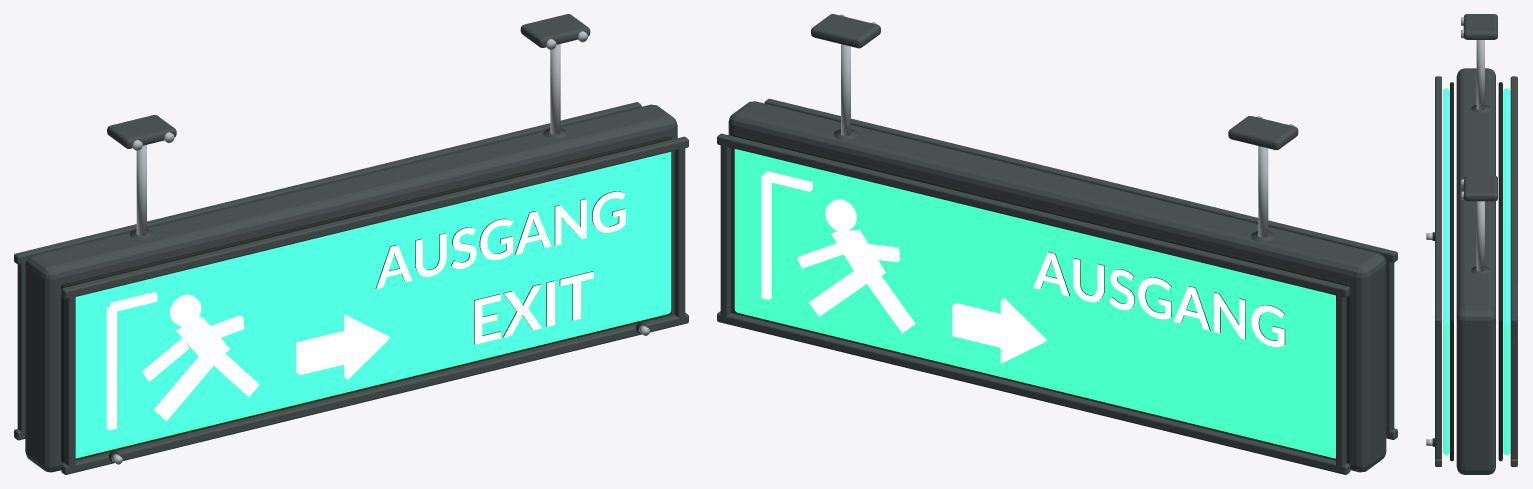
File: EXIT_AUSGANG_Illuminated.glb
The picture shows the model from 3 angles, left to right: view 1: azimuth 30°, elevation 25°; view 2: azimuth 150°, elevation 25°; view 3: azimuth 270°, elevation 25°; orthographic projection. The views are drawn at different scales.
Parts seen in each view (by area): view 1: EXIT | green acrylic front diffuser, EXIT | aluminium rectangular lightbox housing, EXIT | top aluminium bezel -1, EXIT | lower aluminium bezel -1, EXIT | bright white German title, EXIT | front weatherproof gasket, EXIT | top aluminium bezel 1, EXIT | directional right arrow, EXIT | secondary English title, EXIT | short edge bezel -1 -0.75, EXIT | short edge bezel -1 0.75, EXIT | short edge bezel 1 -0.75 (+10 smaller); view 2: EXIT | green acrylic back diffuser, EXIT | aluminium rectangular lightbox housing, EXIT | top aluminium bezel 1, EXIT | lower aluminium bezel 1, EXIT | bright white German title | reverse face, EXIT | rear weatherproof gasket, EXIT | top aluminium bezel -1, EXIT | directional right arrow | reverse face, EXIT | short edge bezel 1 0.75, EXIT | short edge bezel 1 -0.75, EXIT | flush ceiling anchor plate 2, EXIT | flush ceiling anchor plate 1 (+8 smaller); view 3: EXIT | aluminium rectangular lightbox housing, EXIT | green acrylic back diffuser, EXIT | green acrylic front diffuser, EXIT | top aluminium bezel 1, EXIT | rear weatherproof gasket, EXIT | top aluminium bezel -1, EXIT | front weatherproof gasket, EXIT | short edge bezel 1 0.75, EXIT | short edge bezel -1 0.75, EXIT | flush ceiling anchor plate 2, EXIT | flush ceiling anchor plate 1, EXIT | ceiling drop rod 2 (+1 smaller).
Part boxes in pixels (left/top/right/bottom): EXIT | green acrylic front diffuser: left=75, top=152, right=671, bottom=458; EXIT | aluminium rectangular lightbox housing: left=25, top=104, right=677, bottom=472; EXIT | top aluminium bezel -1: left=61, top=136, right=688, bottom=299; EXIT | lower aluminium bezel -1: left=61, top=313, right=688, bottom=474; EXIT | bright white German title: left=375, top=191, right=625, bottom=289; EXIT | front weatherproof gasket: left=61, top=136, right=671, bottom=462; EXIT | top aluminium bezel 1: left=14, top=102, right=641, bottom=264; EXIT | directional right arrow: left=296, top=314, right=389, bottom=379; EXIT | secondary English title: left=474, top=271, right=593, bottom=344; EXIT | short edge bezel -1 -0.75: left=64, top=294, right=75, bottom=469; EXIT | short edge bezel -1 0.75: left=674, top=146, right=685, bottom=319; EXIT | short edge bezel 1 -0.75: left=17, top=259, right=26, bottom=432; EXIT | green acrylic back diffuser: left=734, top=149, right=1335, bottom=458; EXIT | aluminium rectangular lightbox housing: left=728, top=101, right=1386, bottom=472; EXIT | top aluminium bezel 1: left=717, top=133, right=1350, bottom=297; EXIT | lower aluminium bezel 1: left=717, top=311, right=1350, bottom=474; EXIT | bright white German title | reverse face: left=1033, top=251, right=1285, bottom=346; EXIT | rear weatherproof gasket: left=734, top=133, right=1350, bottom=462; EXIT | top aluminium bezel -1: left=764, top=98, right=1397, bottom=262; EXIT | directional right arrow | reverse face: left=952, top=298, right=1046, bottom=363; EXIT | short edge bezel 1 0.75: left=720, top=142, right=731, bottom=319; EXIT | short edge bezel 1 -0.75: left=1336, top=292, right=1346, bottom=467; EXIT | flush ceiling anchor plate 2: left=811, top=14, right=880, bottom=48; EXIT | flush ceiling anchor plate 1: left=1228, top=116, right=1298, bottom=150; EXIT | aluminium rectangular lightbox housing: left=1456, top=68, right=1495, bottom=474; EXIT | green acrylic back diffuser: left=1503, top=88, right=1510, bottom=454; EXIT | green acrylic front diffuser: left=1443, top=88, right=1449, bottom=454; EXIT | top aluminium bezel 1: left=1510, top=76, right=1517, bottom=326; EXIT | rear weatherproof gasket: left=1498, top=82, right=1502, bottom=461; EXIT | top aluminium bezel -1: left=1435, top=76, right=1441, bottom=326; EXIT | front weatherproof gasket: left=1450, top=82, right=1453, bottom=461; EXIT | short edge bezel 1 0.75: left=1510, top=325, right=1517, bottom=459; EXIT | short edge bezel -1 0.75: left=1435, top=325, right=1441, bottom=459; EXIT | flush ceiling anchor plate 2: left=1463, top=175, right=1497, bottom=201; EXIT | flush ceiling anchor plate 1: left=1463, top=14, right=1497, bottom=39; EXIT | ceiling drop rod 2: left=1476, top=201, right=1484, bottom=271.
Size of the model in its own units: 1.57 by 0.7365 by 0.247.
